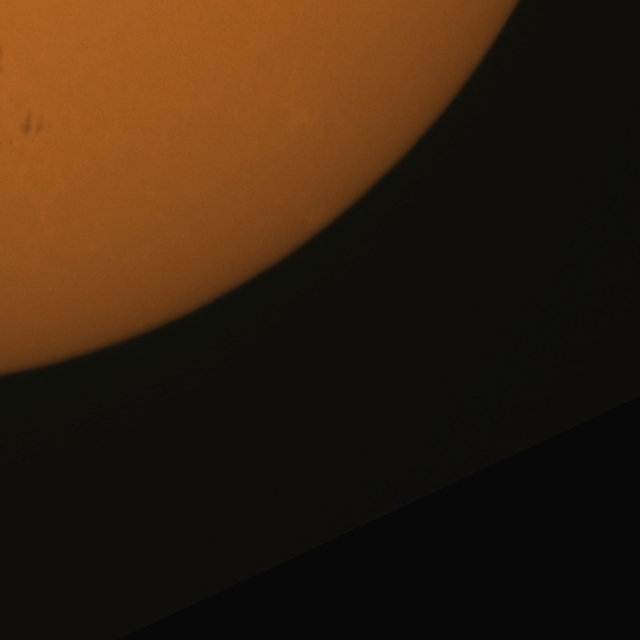sunspot: (19, 114, 50, 138)
